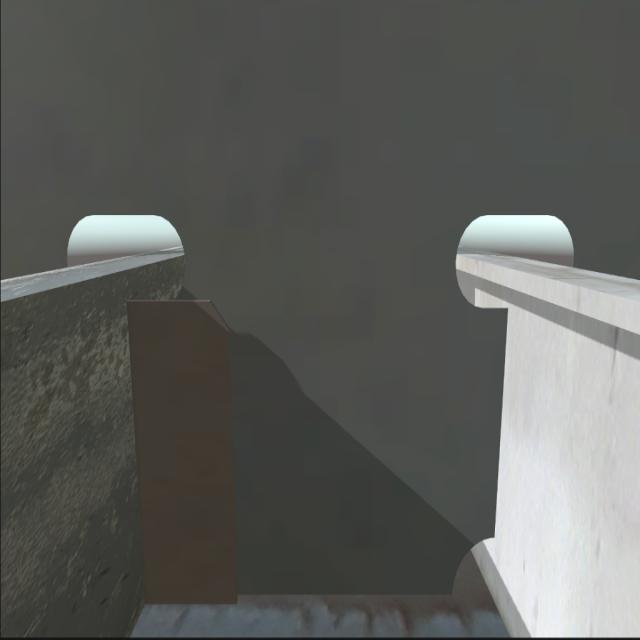fillet_hole: (452, 531, 492, 593)
fillet_yong_jeop_jang: (141, 583, 458, 613)
longi_yong_jeop_jang: (120, 291, 154, 607), (490, 305, 511, 530)
plate_CP03: (128, 300, 241, 602)
